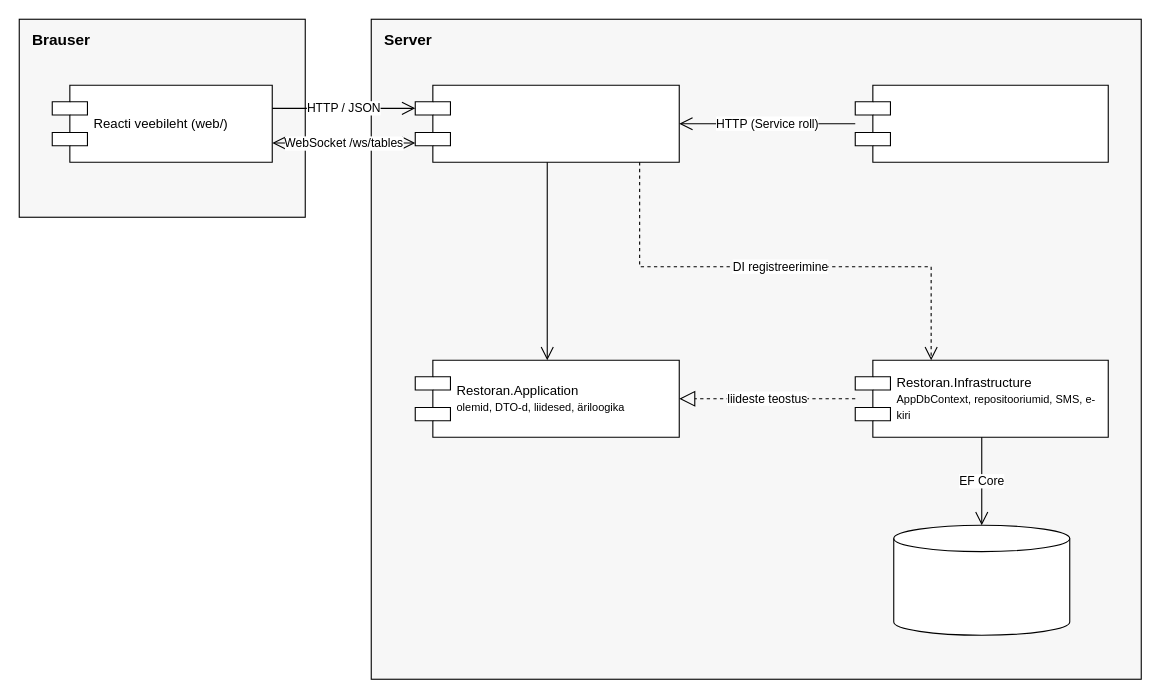
Image size: 1161x699. Some labels were removed from this diagram. The shapes that lost their labels are listed below. From the top down, each one's box as (x1, y1, x2, y2) in pixels, then its label:
(414, 84, 679, 162): Restoran.Api kontrollerid, JWT, Swagger, WebSocket
(854, 84, 1108, 162): Restoran.Worker taustateenus
(893, 524, 1070, 635): SQLite restoran.db
